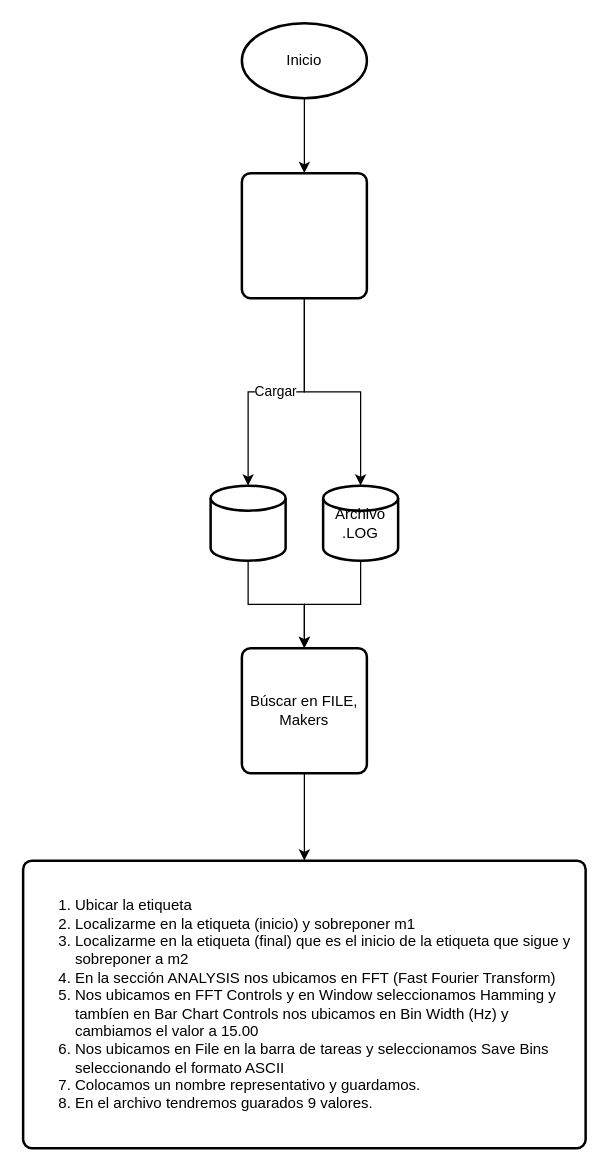
Some shapes in this 608 by 1170 pixel diagram are drawn without their labels. The shapes that lost their labels are listed below. From the top down, each one's centre as x and y in pixels, then its label:
At (x=304, y=235): "Abrir el programa PolyVIEW".
At (x=247, y=522): "Archivo .BIN".
